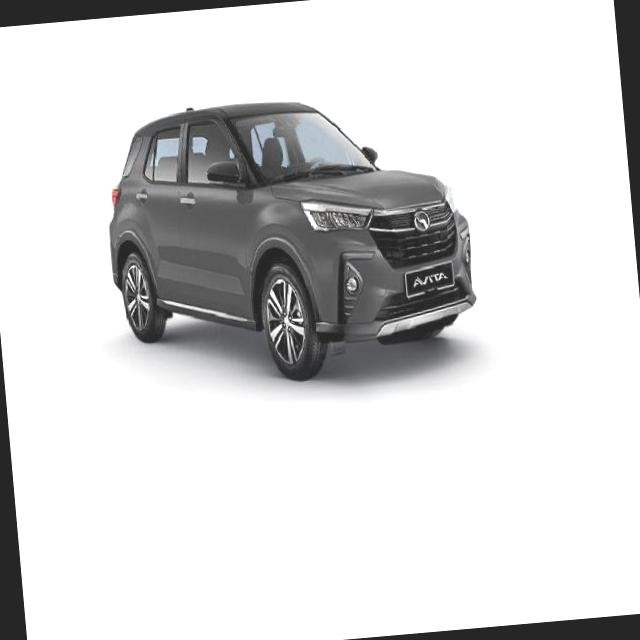PeroduaAtiva: (98, 81, 484, 397)
